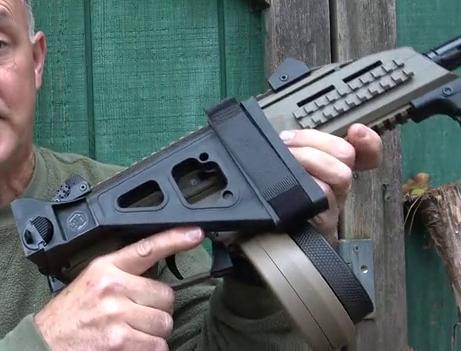gun: (1, 1, 461, 351)
